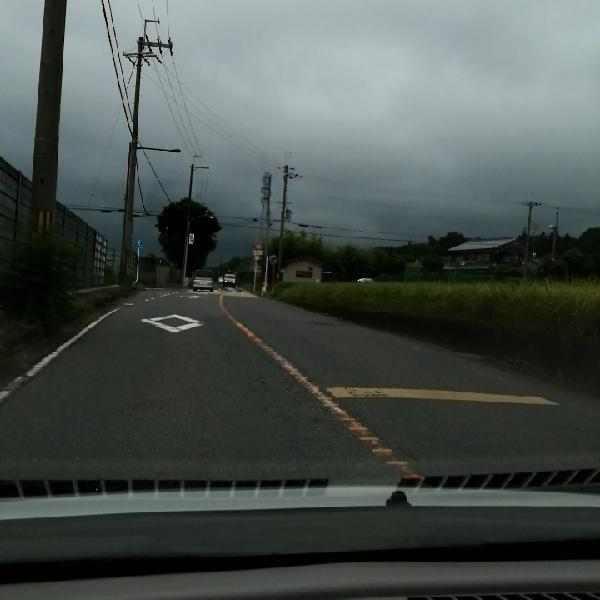D20: (242, 367, 358, 465)
D44: (135, 300, 207, 336)
